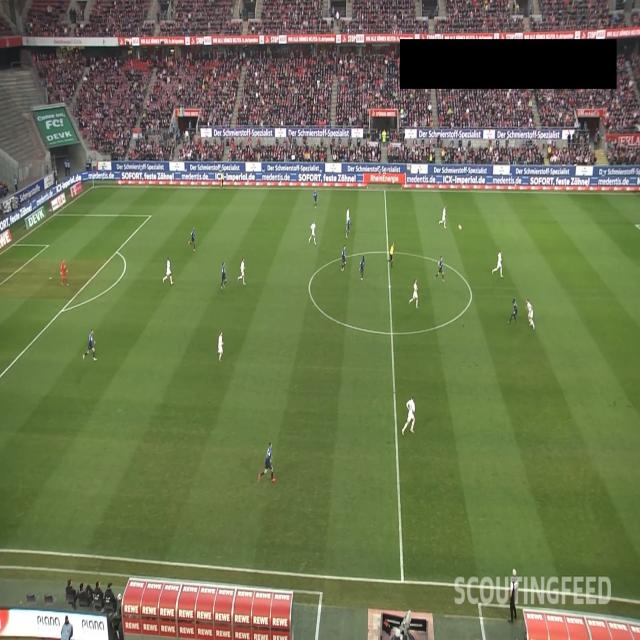ball: (458, 223, 462, 231)
